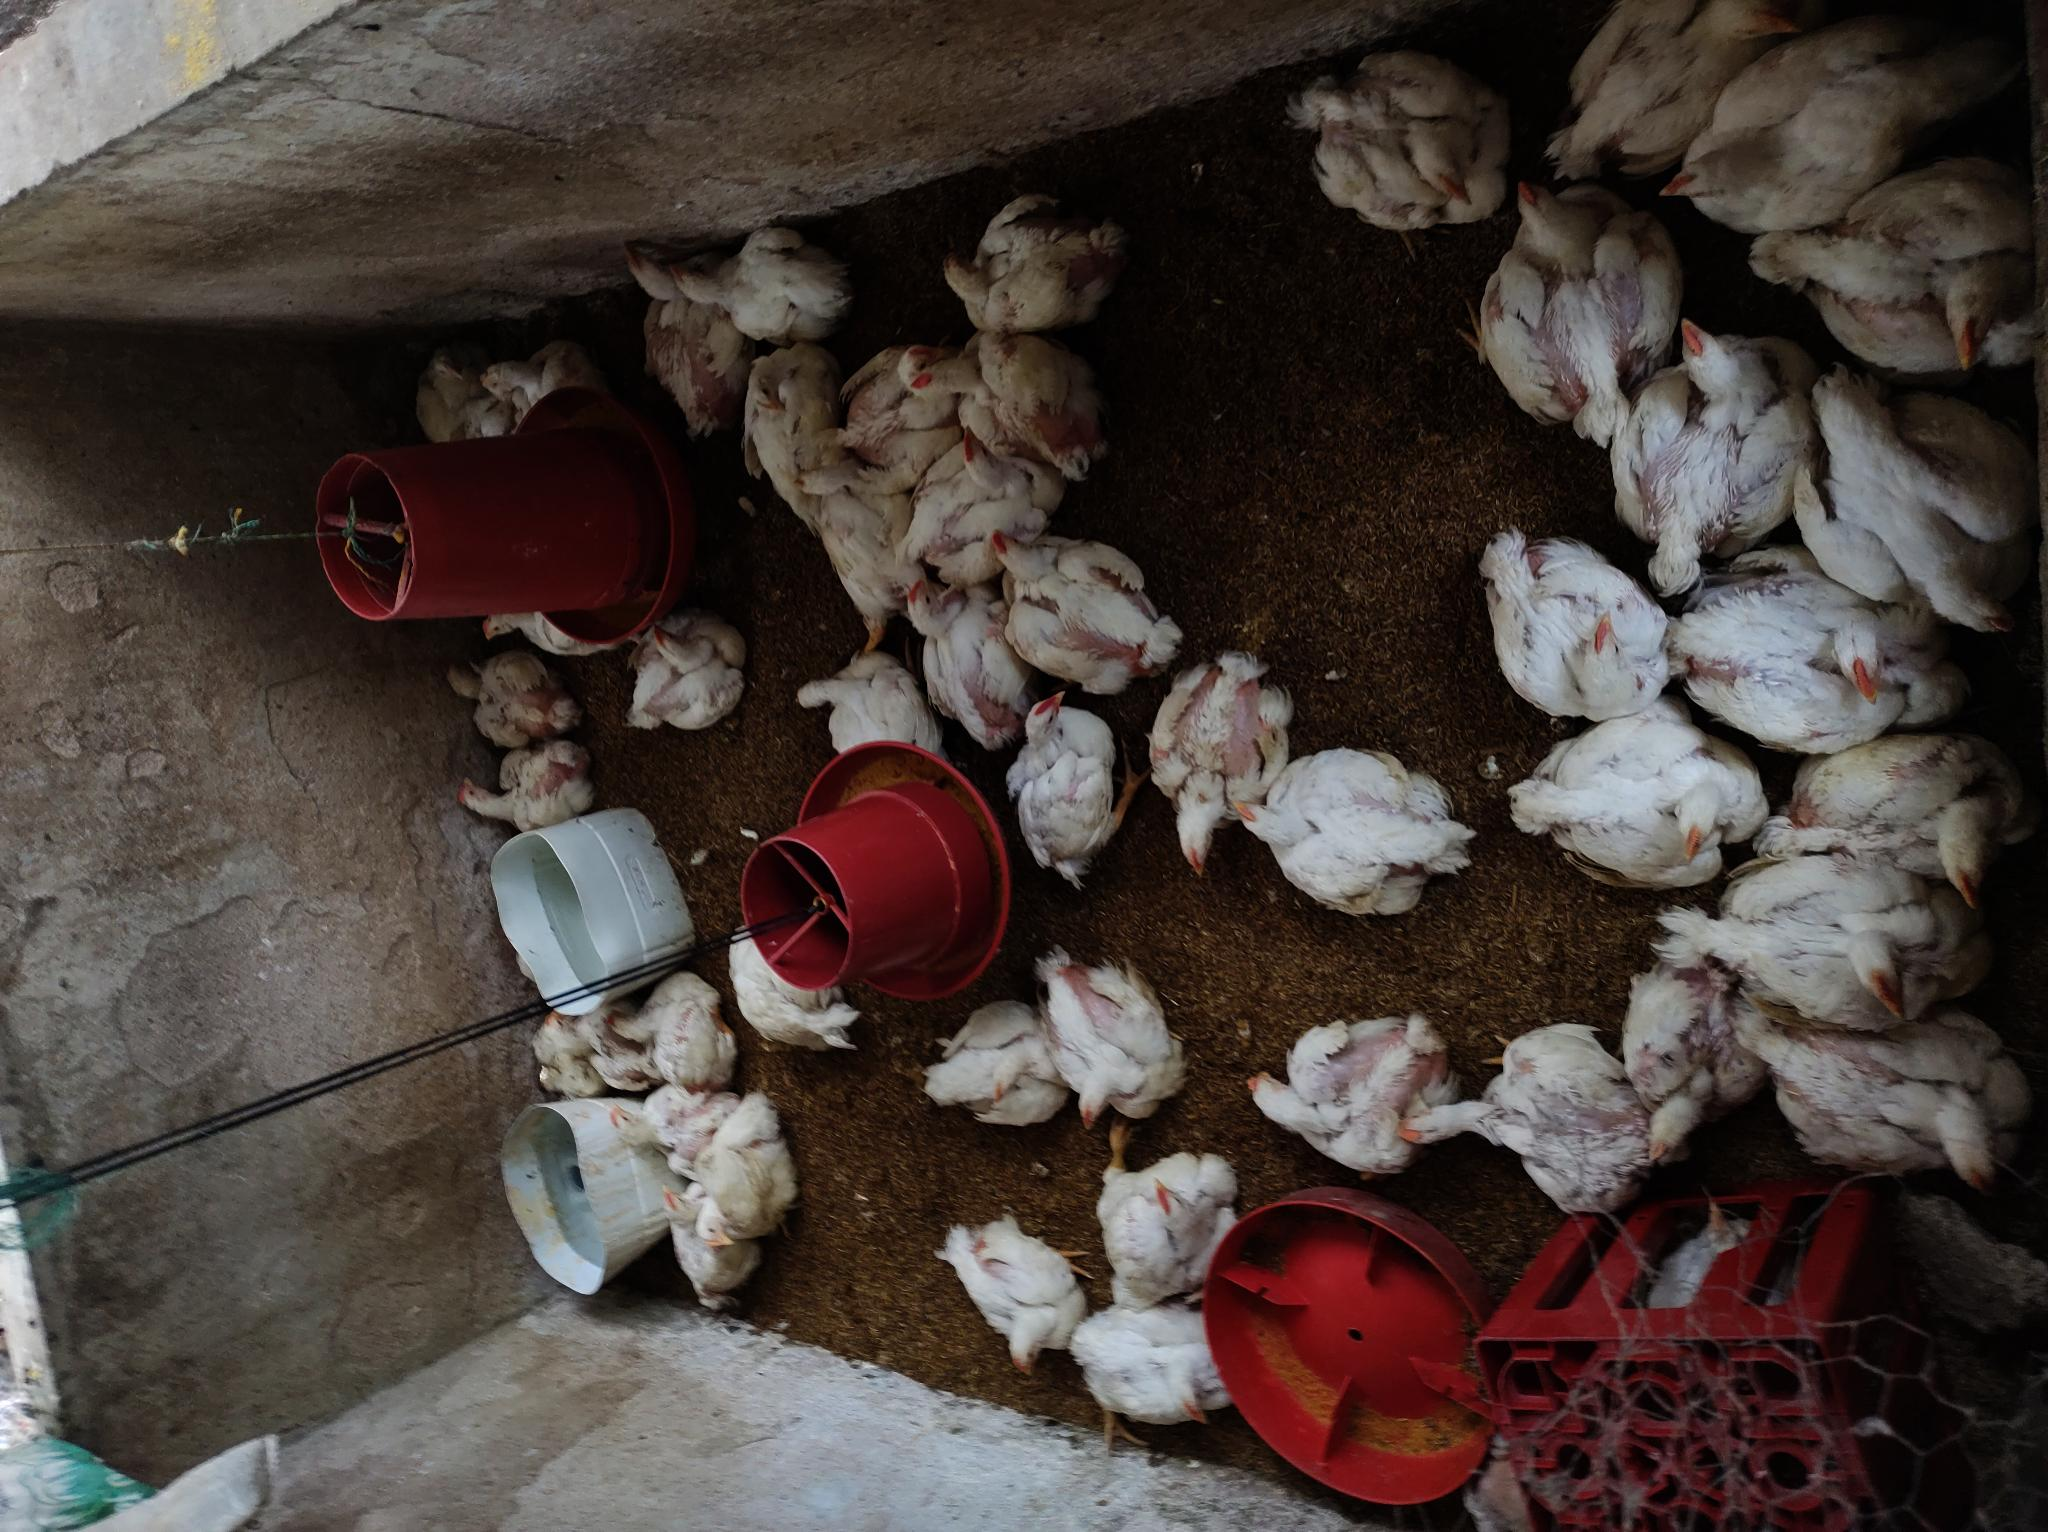Pollos: (1654, 23, 2008, 224), (1784, 369, 2029, 649), (1749, 986, 2048, 1196), (1778, 167, 2048, 385), (1655, 850, 1977, 1028), (1466, 179, 1676, 434), (1755, 727, 2025, 925), (1392, 1015, 1660, 1213), (1676, 563, 1951, 756), (1598, 288, 1791, 554), (1540, 0, 1805, 187), (1223, 740, 1475, 929), (1506, 700, 1755, 888), (1470, 512, 1675, 727), (1292, 37, 1512, 237), (1237, 999, 1454, 1183), (1149, 647, 1302, 883), (978, 518, 1186, 689), (790, 431, 952, 636), (1034, 933, 1186, 1146), (931, 182, 1123, 343), (994, 681, 1141, 888), (613, 225, 753, 431), (935, 1209, 1096, 1387), (906, 343, 1112, 480), (1614, 954, 1754, 1152), (894, 417, 1060, 579), (1084, 1122, 1228, 1308), (1057, 1292, 1226, 1448), (901, 558, 1031, 740), (664, 225, 866, 340), (914, 999, 1075, 1138), (742, 336, 854, 526), (722, 912, 859, 1060), (605, 613, 756, 735), (798, 650, 949, 763), (640, 1181, 775, 1307), (687, 1091, 787, 1258), (833, 338, 968, 460), (602, 969, 735, 1088), (422, 652, 587, 747), (460, 731, 589, 832), (603, 1067, 740, 1159), (478, 343, 607, 422), (402, 351, 513, 434), (533, 1007, 639, 1088), (470, 607, 595, 666)
